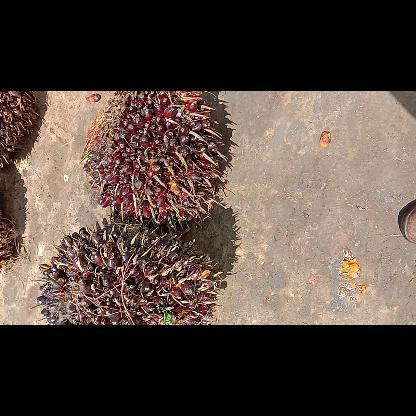TBS mentah: (80, 90, 224, 228), (34, 224, 218, 324), (0, 92, 38, 176)
